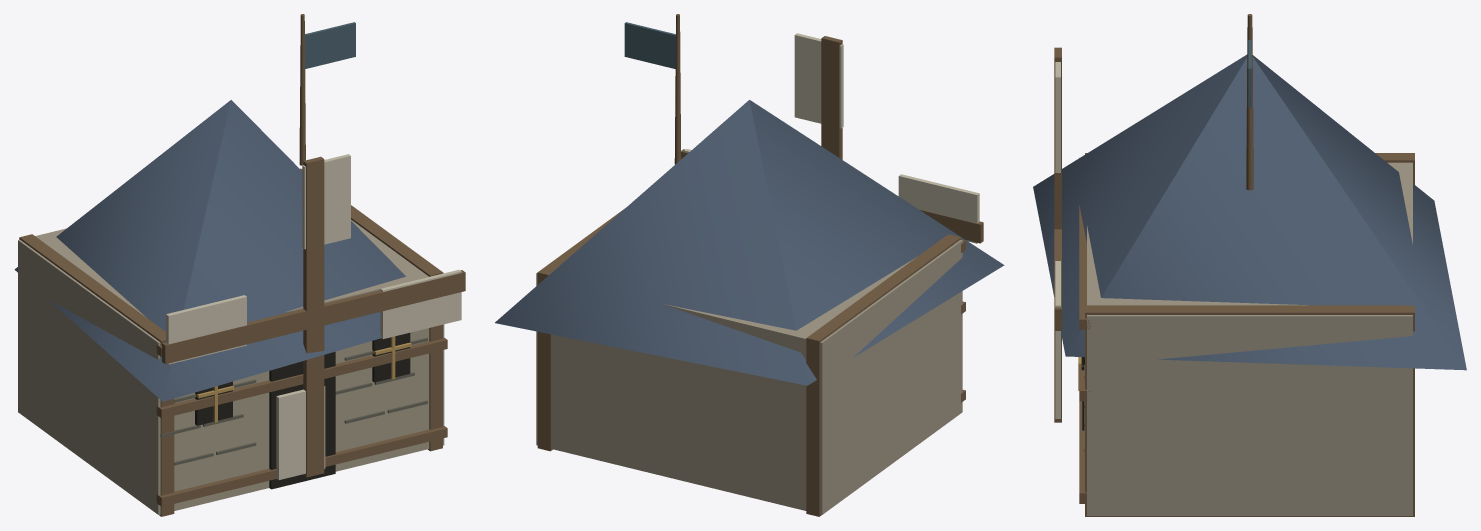
Rendered from b-mill-french.glb.
The picture shows the model from 3 angles, left to right: view 1: azimuth 30°, elevation 25°; view 2: azimuth 150°, elevation 25°; view 3: azimuth 270°, elevation 25°; orthographic projection. The views are drawn at different scales.
Visible parts, largest first — view 1: Structure, sail1, sail0, sail3, sail2; view 2: Structure, sail0, sail1; view 3: Structure, sail0, sail3, sail2.
Boxes of the visible parts, x1,y1,x2,y2 form: Structure: [14, 14, 447, 516]; sail1: [162, 295, 322, 364]; sail0: [302, 154, 350, 325]; sail3: [312, 269, 465, 338]; sail2: [276, 309, 325, 479]; Structure: [495, 14, 1004, 516]; sail0: [794, 33, 843, 159]; sail1: [898, 174, 983, 243]; Structure: [1033, 14, 1466, 516]; sail0: [1054, 47, 1061, 229]; sail3: [1054, 229, 1061, 361]; sail2: [1054, 331, 1061, 422].
Bounding box in the file's own units: 4.53 × 5.33 × 4.53.
